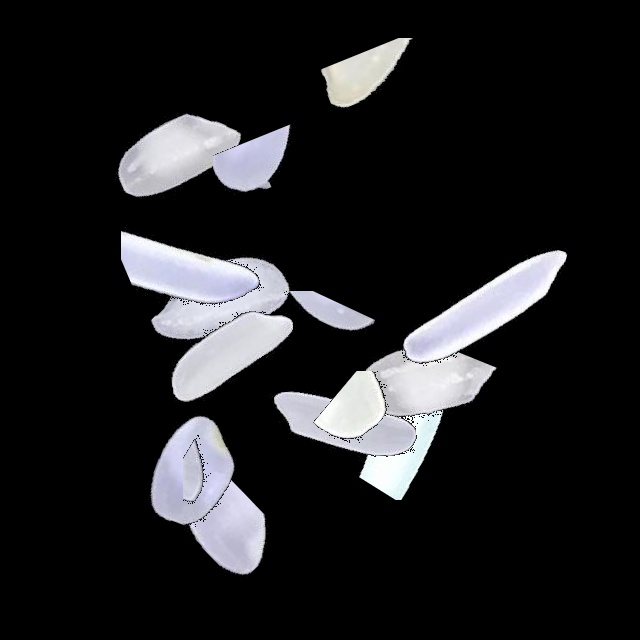Broken: (295, 326, 545, 500), (121, 117, 286, 367), (285, 339, 535, 494), (68, 475, 318, 629), (213, 73, 340, 323), (175, 291, 425, 402), (183, 345, 281, 595), (282, 38, 532, 129), (250, 371, 500, 452)
Full: (68, 344, 318, 594), (92, 177, 342, 427), (51, 32, 301, 282), (219, 297, 469, 547), (108, 232, 358, 482), (359, 181, 609, 431)
